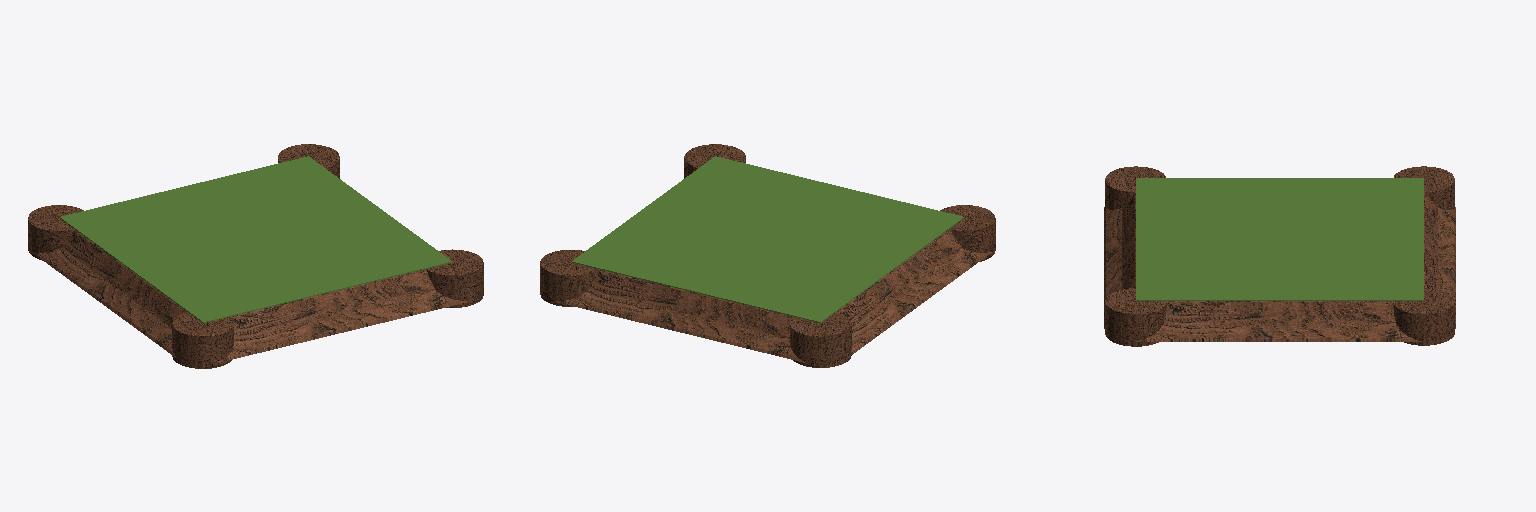
3 renders of one model, left to right at view 1: azimuth 30°, elevation 25°; view 2: azimuth 150°, elevation 25°; view 3: azimuth 270°, elevation 25°, orthographic.
Visible parts, largest first — view 1: s.0073, p.0086, p.0095, p.0097Mirrored, p.0095Mirrored, p.0097, p.0096; view 2: s.0073, p.0086, p.0097Mirrored, p.0097, p.0095, p.0095Mirrored; view 3: s.0073, p.0086, p.0097, p.0095Mirrored, p.0097Mirrored, p.0095, p.0096.
Part boxes in pixels (left/top/right/bottom): s.0073: left=59, top=156, right=452, bottom=322; p.0086: left=32, top=219, right=467, bottom=362; p.0095: left=172, top=312, right=233, bottom=368; p.0097Mirrored: left=28, top=205, right=83, bottom=260; p.0095Mirrored: left=427, top=249, right=483, bottom=307; p.0097: left=278, top=144, right=339, bottom=178; p.0096: left=426, top=250, right=480, bottom=307; s.0073: left=571, top=156, right=964, bottom=322; p.0086: left=556, top=219, right=991, bottom=362; p.0097Mirrored: left=790, top=312, right=851, bottom=367; p.0097: left=540, top=250, right=597, bottom=306; p.0095: left=940, top=205, right=995, bottom=261; p.0095Mirrored: left=684, top=144, right=745, bottom=178; s.0073: left=1136, top=178, right=1423, bottom=300; p.0086: left=1104, top=193, right=1455, bottom=341; p.0097: left=1393, top=288, right=1454, bottom=345; p.0095Mirrored: left=1106, top=288, right=1166, bottom=346; p.0097Mirrored: left=1394, top=166, right=1454, bottom=209; p.0095: left=1105, top=166, right=1165, bottom=209; p.0096: left=1105, top=288, right=1166, bottom=346.
Size of the model in its own units: 0.9495 by 0.1005 by 0.9495.
Materials: 2 (2 with a texture image).